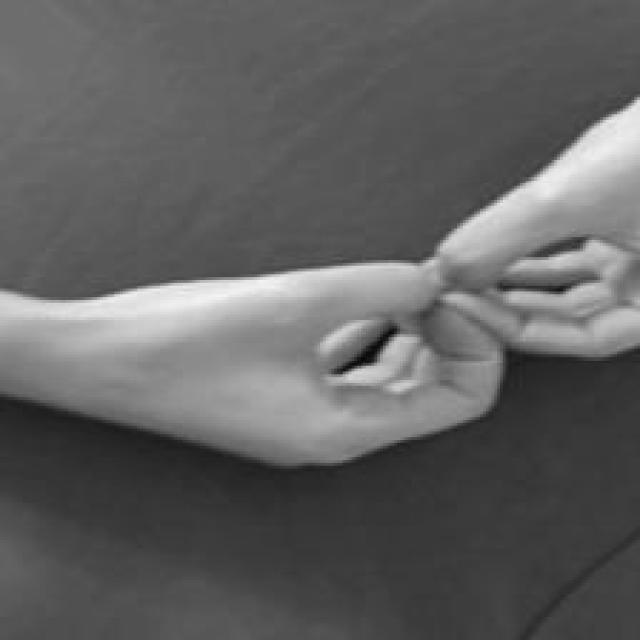B: (112, 91, 640, 469)
